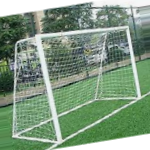goals: (12, 24, 142, 141)
